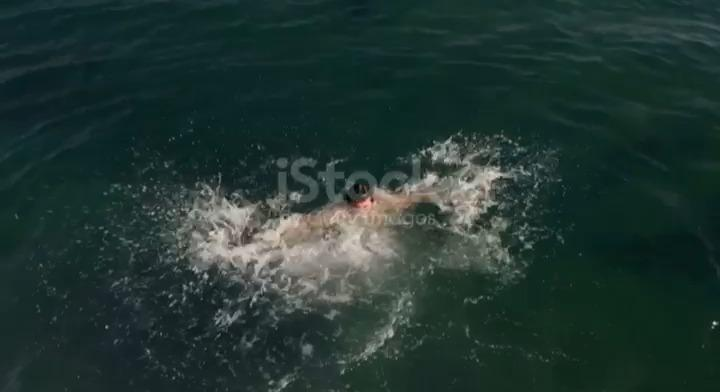Drowning: (212, 108, 462, 270)
